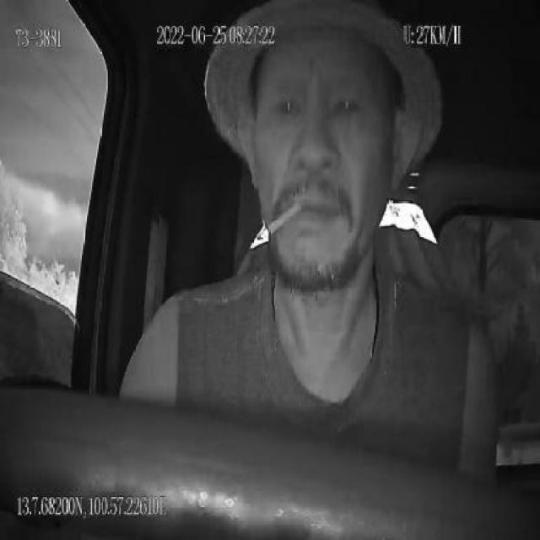smoking: (259, 201, 305, 242)
